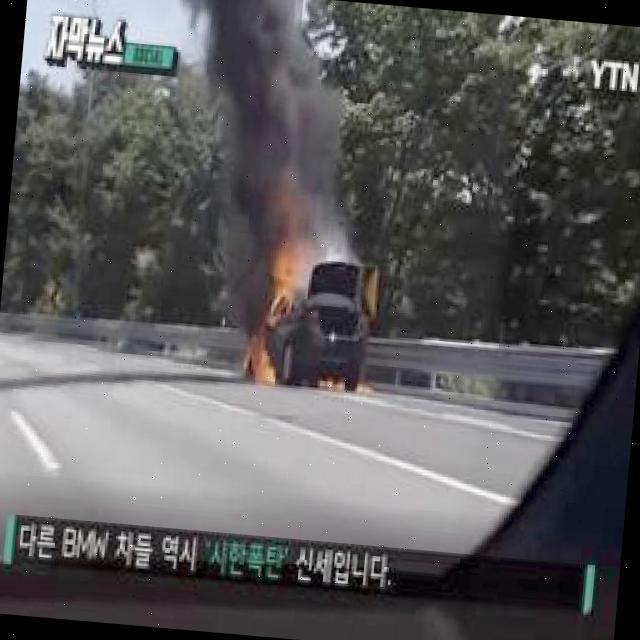fire: (244, 333, 284, 383), (268, 254, 304, 304)
